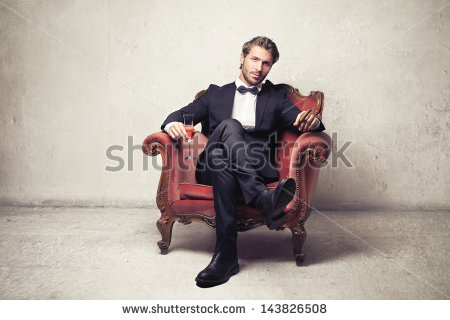chairs: (143, 87, 337, 270)
